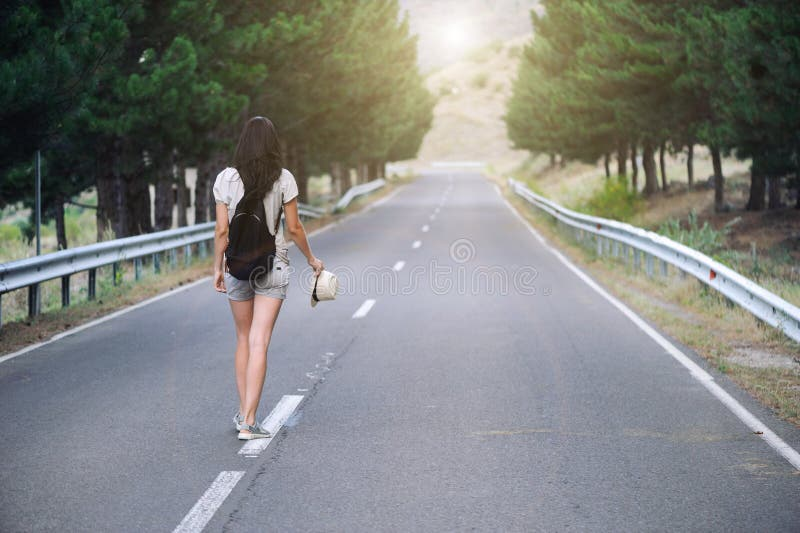Person: (204, 113, 332, 441)
